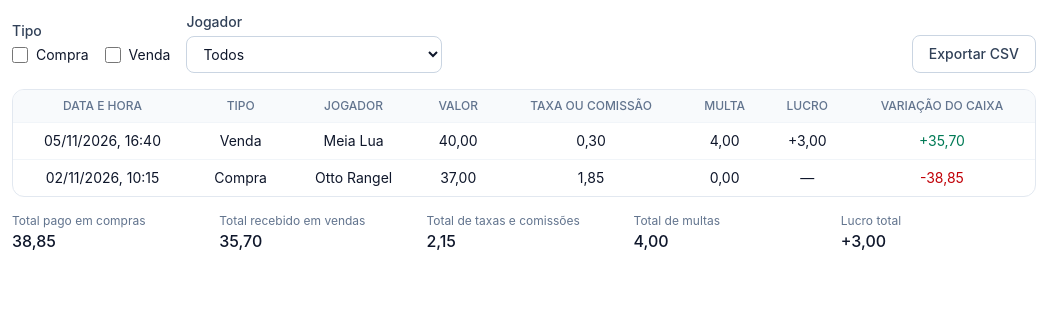
Test: TransactionHistorySection › shows the API message when the export fails
Expected: the cell "Otto Rangel" is shown, [289,160,418,196]
Click the button "Exportar CSV": click(974, 54) [912,35,1036,73]
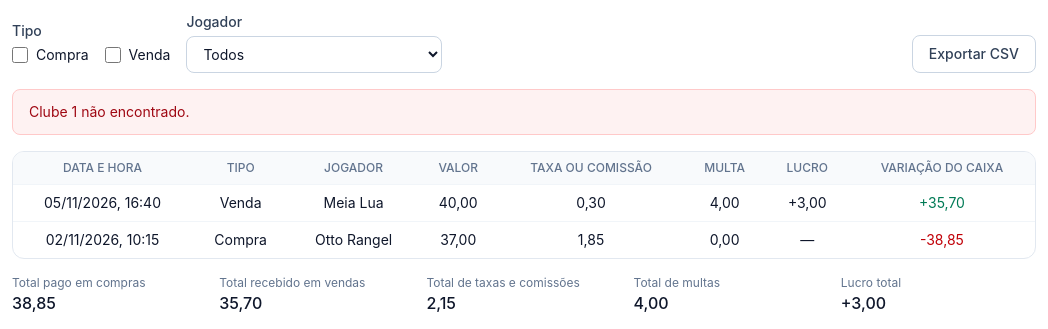
Expected: the message reads "Clube 1 não encontrado.", [29,103,190,120]
